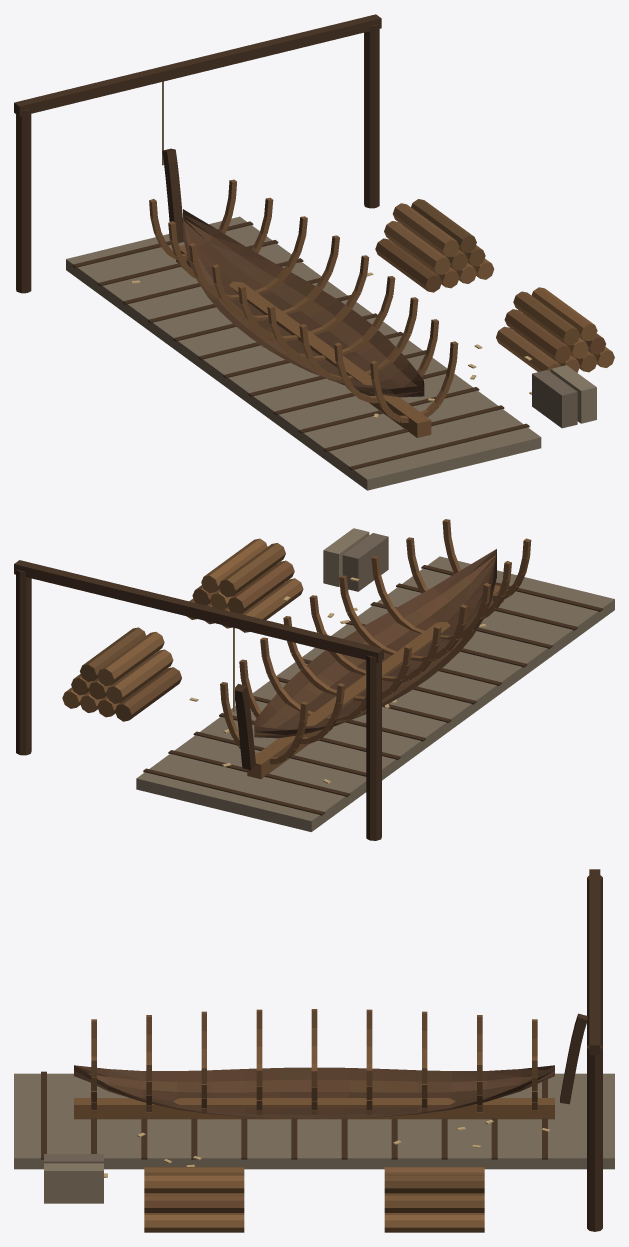
File: Shipyard.glb
The picture shows the model from 3 angles, top to bottom: view 1: azimuth 30°, elevation 25°; view 2: azimuth 150°, elevation 25°; view 3: azimuth 270°, elevation 25°; orthographic projection.
Visible parts, largest first — view 1: Mat_Wood_7d5939, Mat_Wood_5a3f2a, Mat_Wood_7a5636, Mat_Thatch_bba073; view 2: Mat_Wood_7d5939, Mat_Wood_5a3f2a, Mat_Wood_7a5636, Mat_Thatch_bba073; view 3: Mat_Wood_7d5939, Mat_Wood_5a3f2a, Mat_Wood_7a5636, Mat_Thatch_bba073.
Boxes of the visible parts, box(x1,y1,x2,y2) form: Mat_Wood_7d5939: box(66, 203, 614, 490); Mat_Wood_5a3f2a: box(14, 14, 605, 470); Mat_Wood_7a5636: box(149, 179, 431, 437); Mat_Thatch_bba073: box(162, 81, 596, 423); Mat_Wood_7d5939: box(62, 519, 614, 831); Mat_Wood_5a3f2a: box(14, 543, 602, 840); Mat_Wood_7a5636: box(220, 585, 500, 779); Mat_Thatch_bba073: box(223, 528, 486, 733); Mat_Wood_7d5939: box(14, 1011, 614, 1232); Mat_Wood_5a3f2a: box(41, 869, 602, 1231); Mat_Wood_7a5636: box(74, 1009, 554, 1119); Mat_Thatch_bba073: box(44, 1120, 493, 1203).
Bounding box in the file's own units: 21.38 × 10.27 × 30.
1 material, 1 textured.
